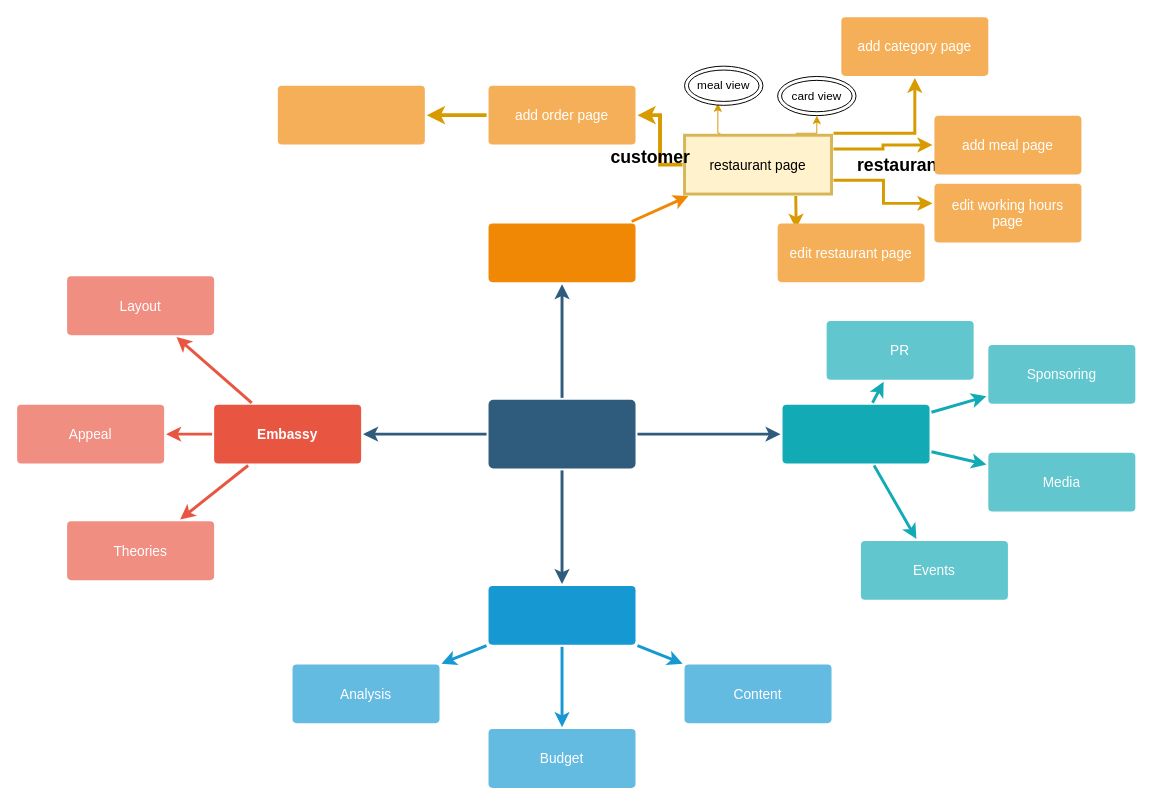
Some shapes in this 1152 by 805 pixel diagram are drawn without their labels. The centre of each missing label's shape, as x and y in pixels:
Communication: the point at 855,433
home page: the point at 561,433
order detail page: the point at 350,114
Organization: the point at 561,615
restaurants page: the point at 561,252
